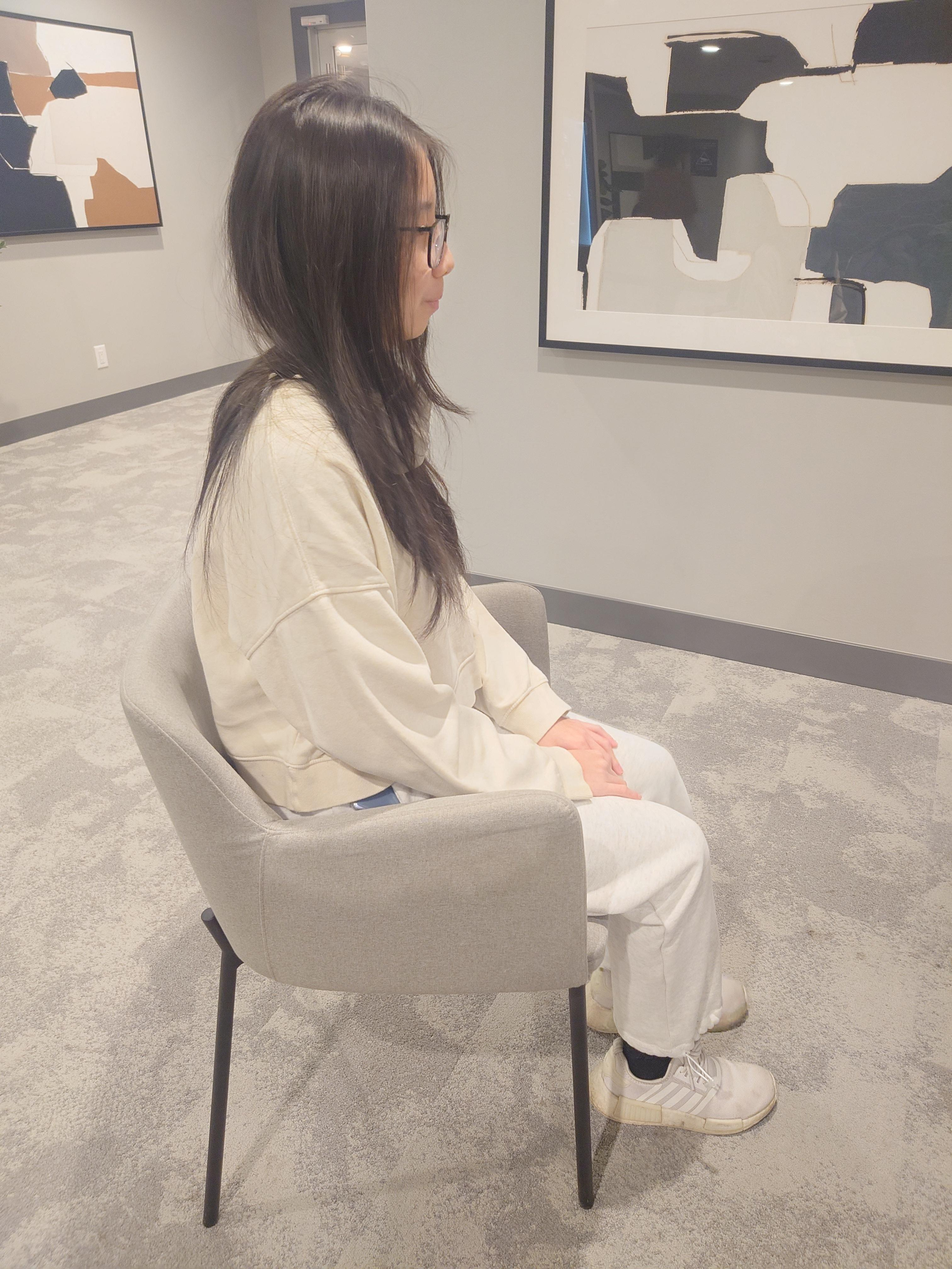GoodPosture: (181, 73, 780, 1132)
